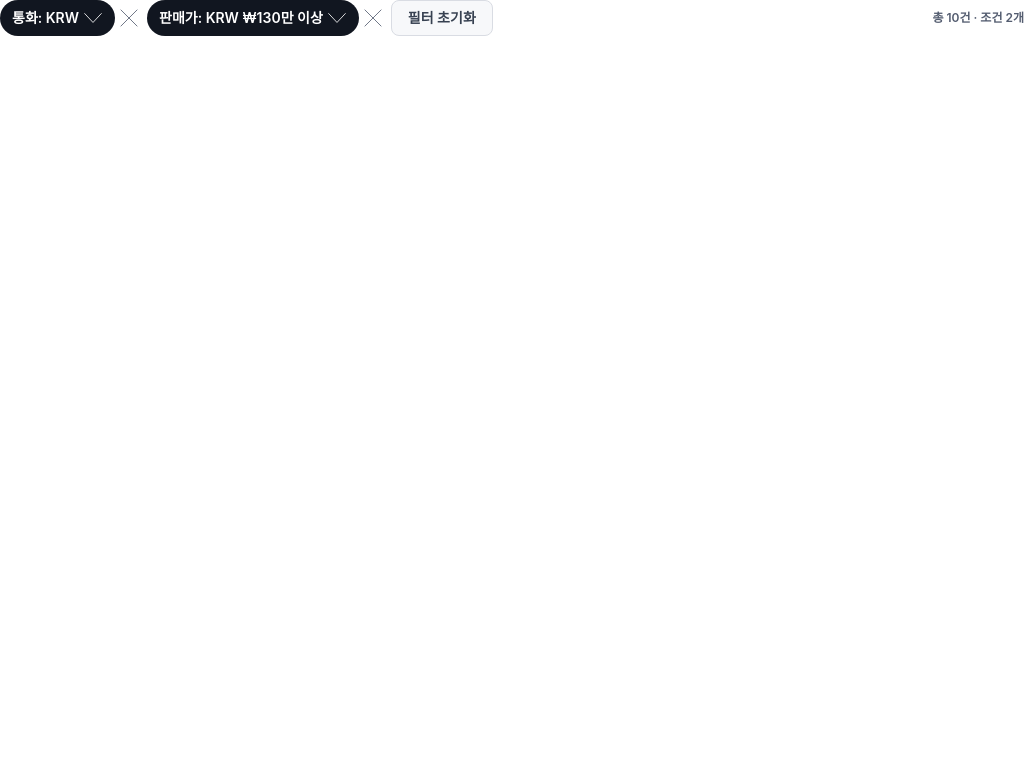
Test case: 통화 (§7.5 — 라디오 먼저, 즉시 적용) › 통화 변경 → 범위 초기화(그 열 조건 제거), 값이 하나뿐인 통화는 슬라이더 대신 문구
Click the button "판매가: KRW ₩130만 이상" at x=253, y=18, box [147,0,359,36]
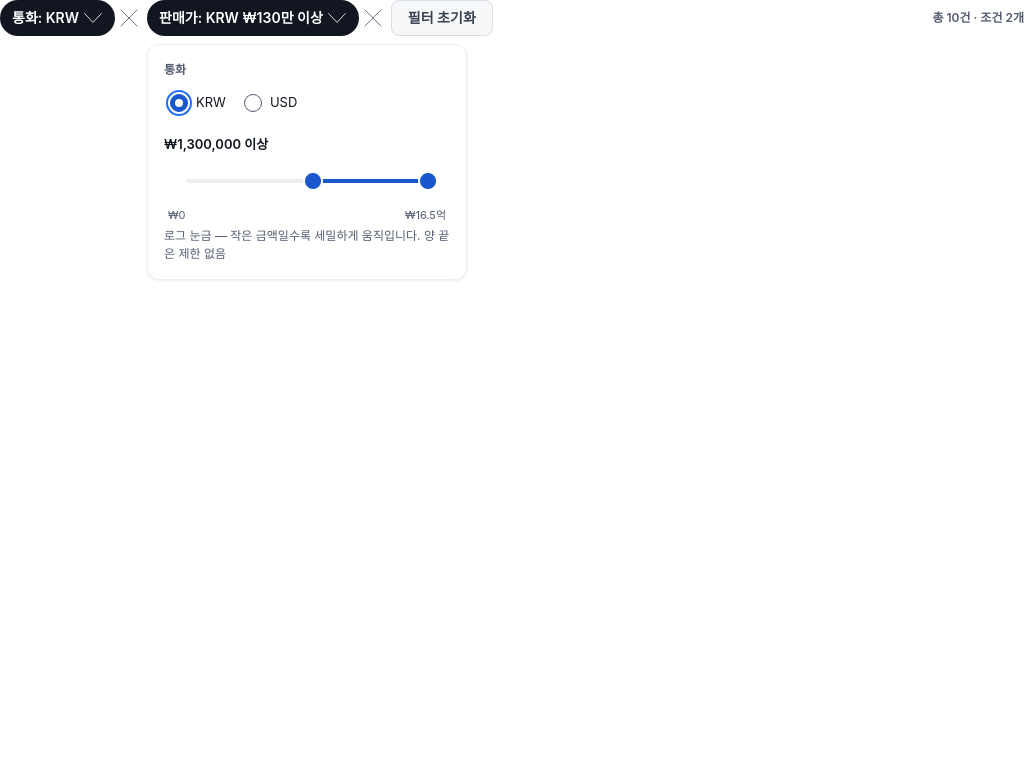
Click the radio button labelled "USD" at x=253, y=103, box [244,94,262,112]
Wait 400 ms
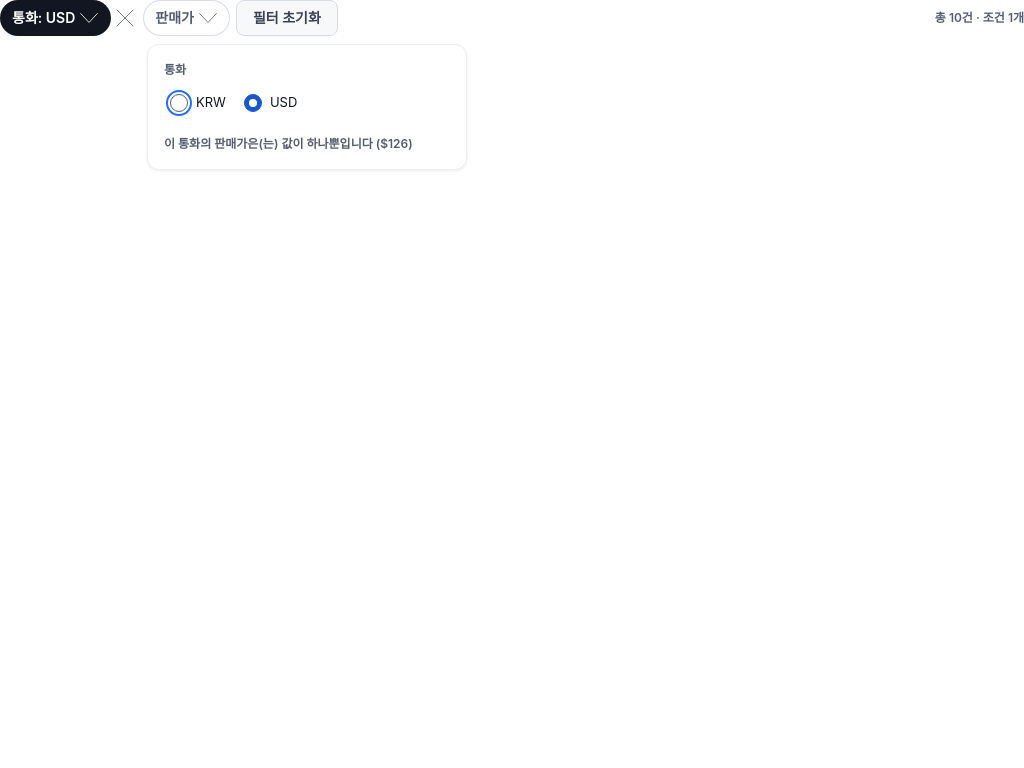
Expected: the slider is gone
Expected: the text "값이 하나뿐입니다 ($126)" is shown, [164,136,413,151]
